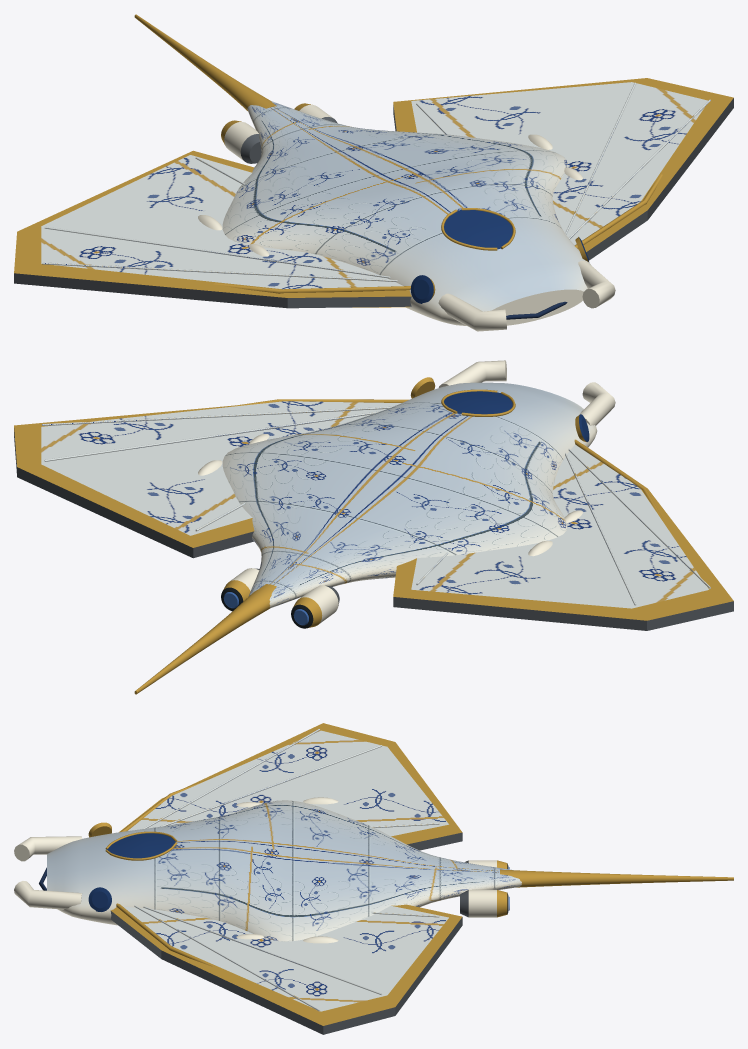
3 renders of one model, top to bottom at view 1: azimuth 30°, elevation 25°; view 2: azimuth 150°, elevation 25°; view 3: azimuth 270°, elevation 25°, orthographic. The views are drawn at different scales.
Visible parts, largest first — view 1: manta_ray_hull; view 2: manta_ray_hull; view 3: manta_ray_hull.
Boxes of the visible parts, x1,y1,x2,y2 form: manta_ray_hull: [14, 14, 733, 331]; manta_ray_hull: [14, 360, 733, 694]; manta_ray_hull: [14, 723, 733, 1034].
Bounding box in the file's own units: 81.66 × 9.18 × 82.
Materials: 1 (1 with a texture image).
